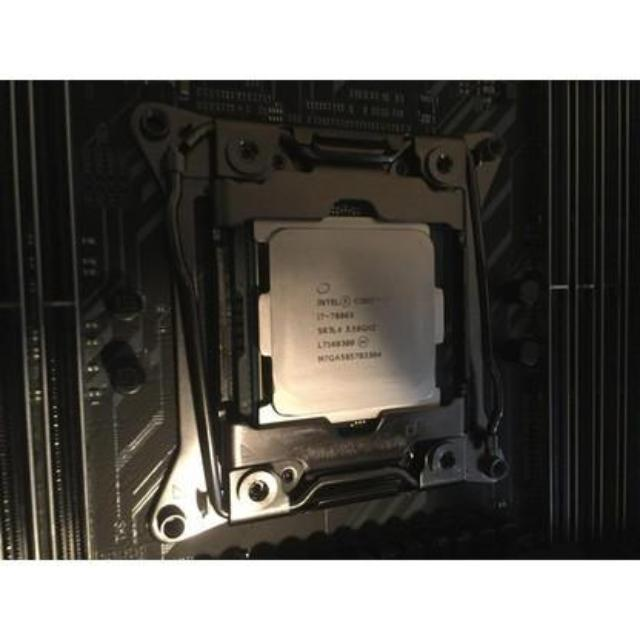CPU: (254, 221, 448, 416)
